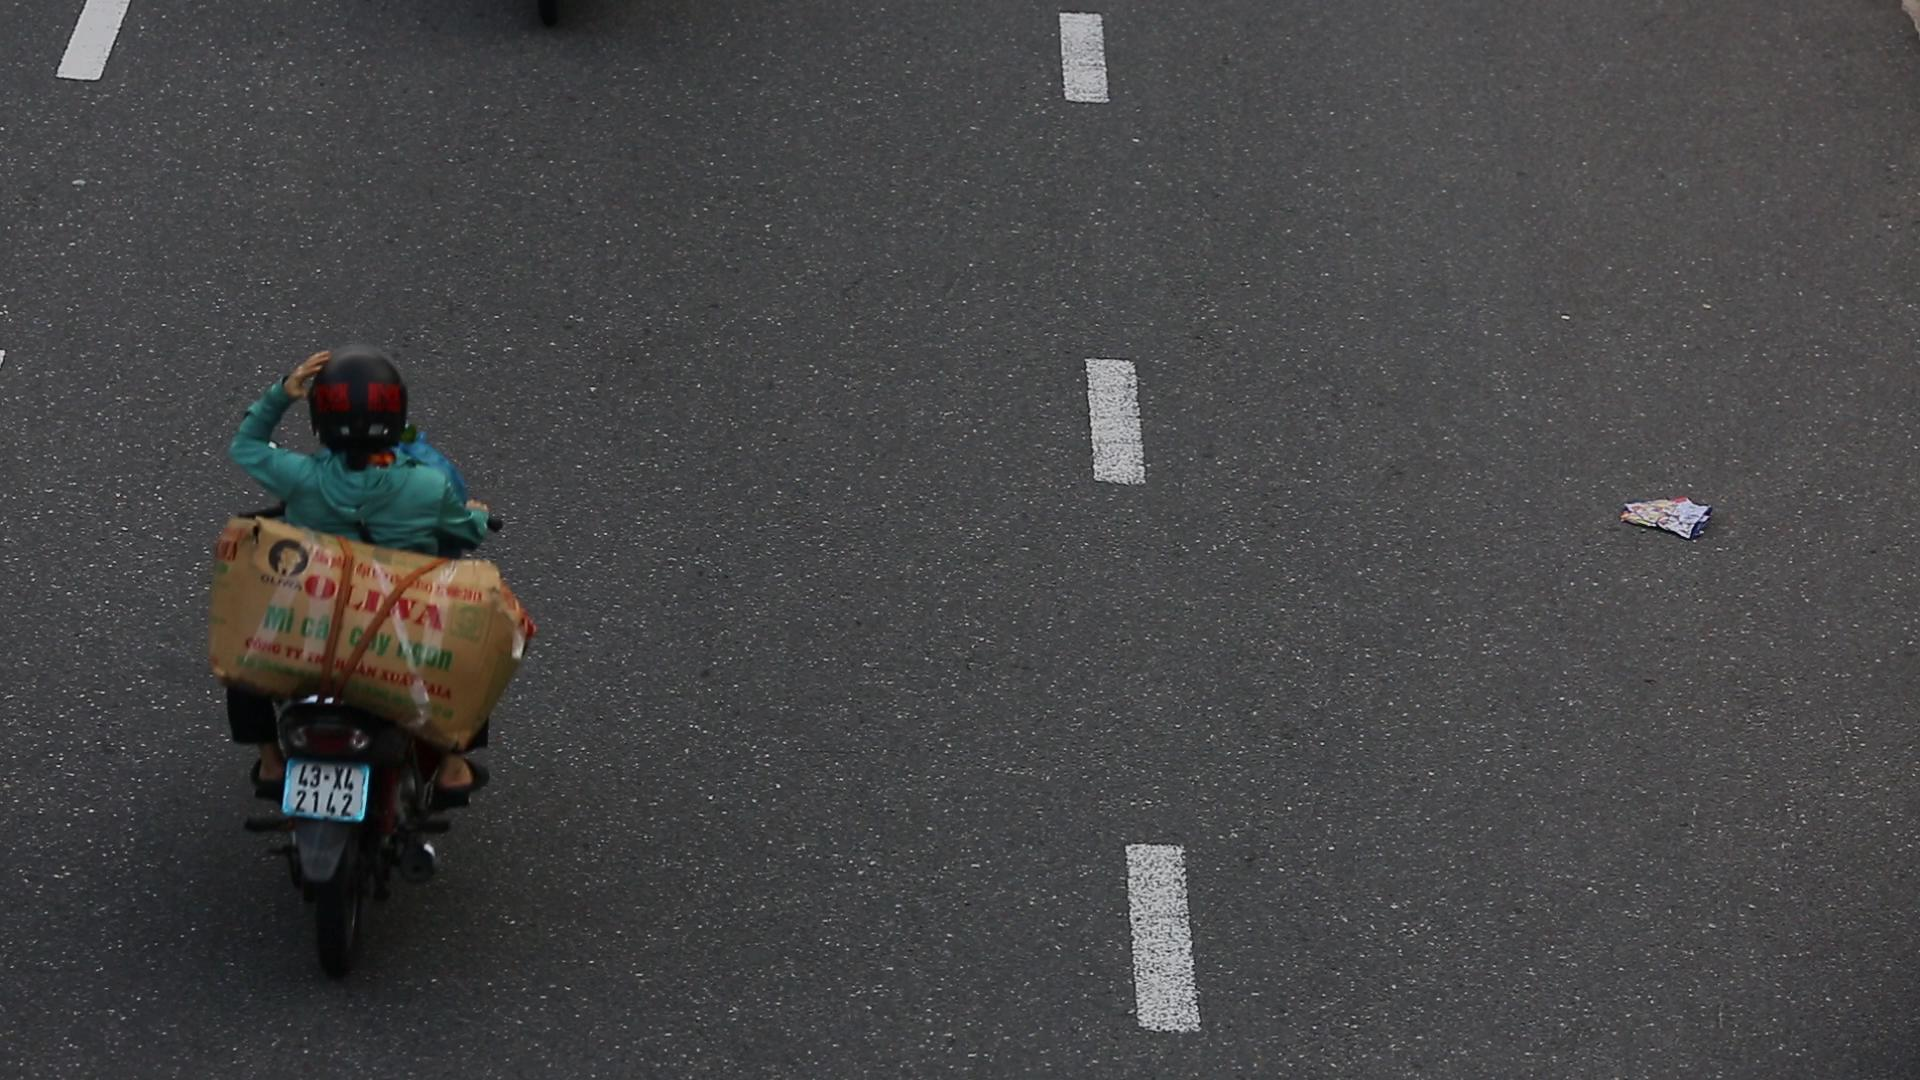motobike: (179, 328, 551, 978)
